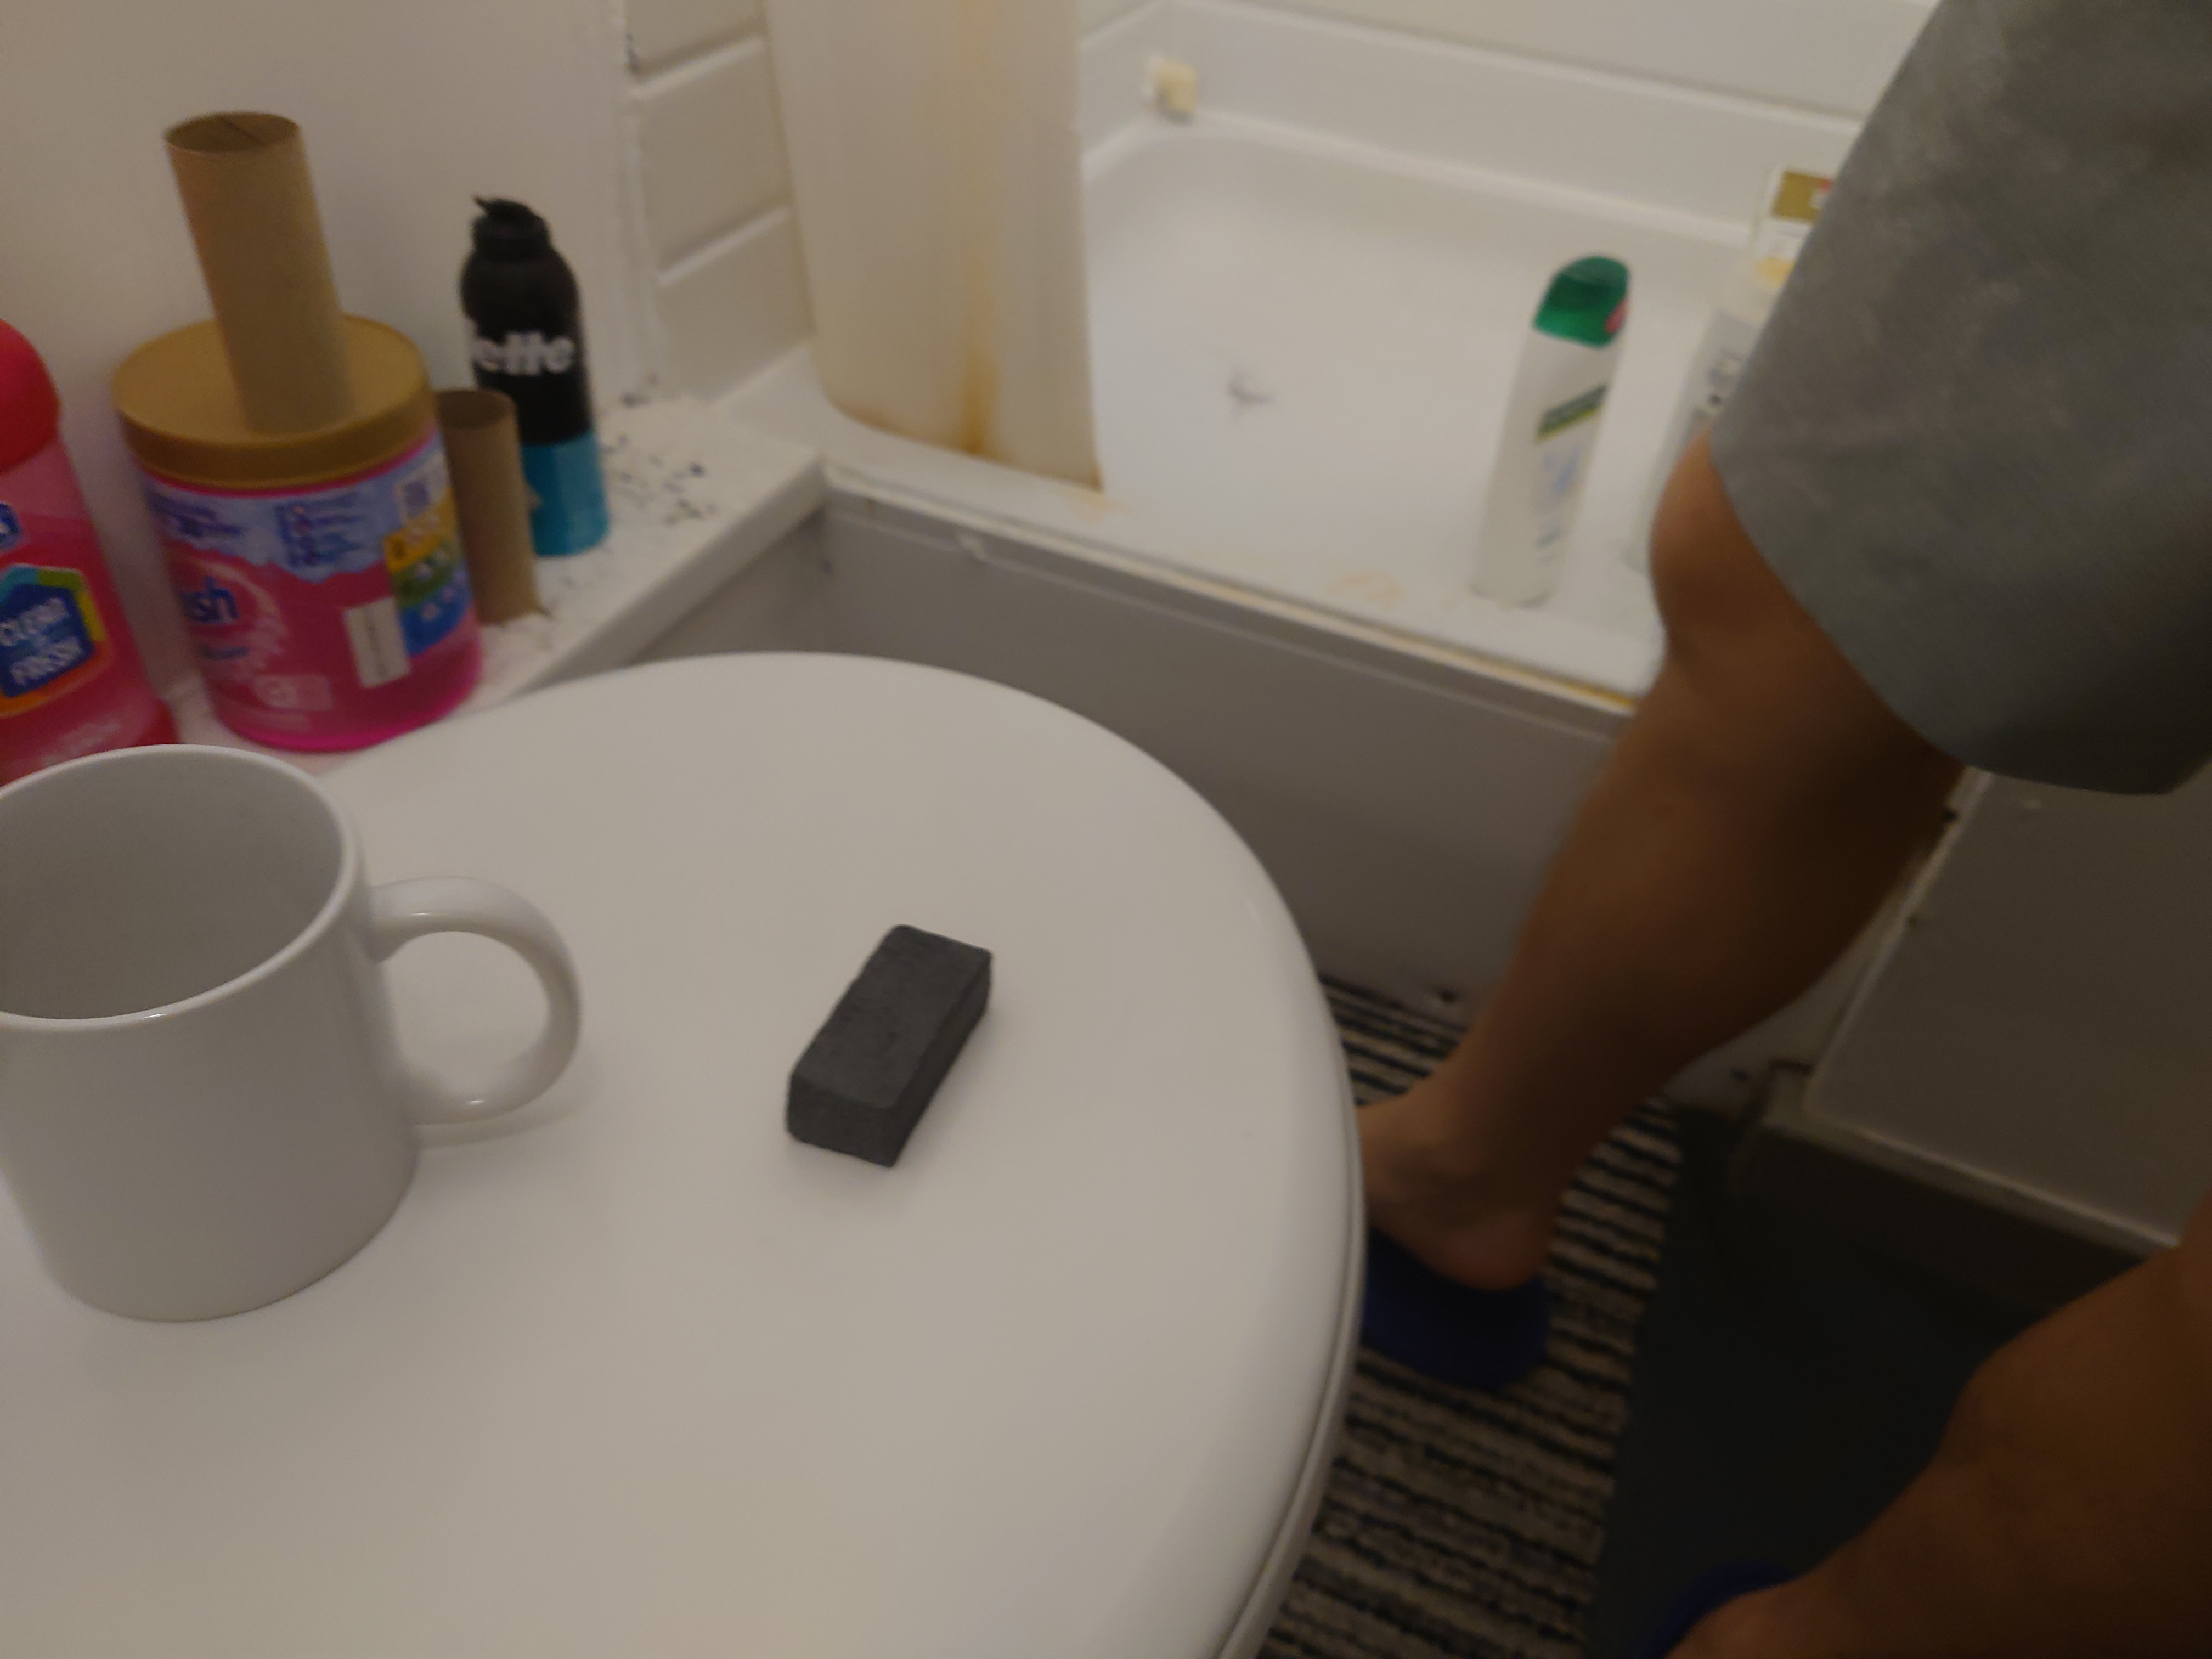cup: (0, 741, 582, 1333)
target: (775, 920, 995, 1169)
